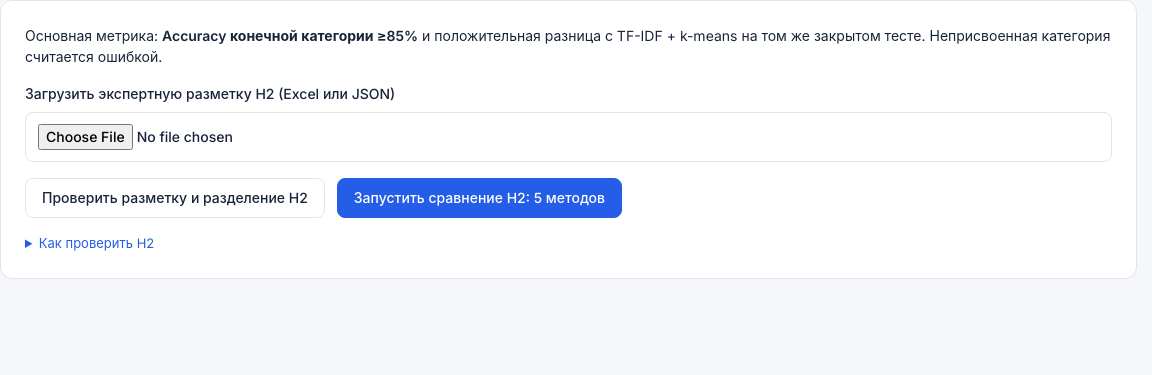
it: shows closed-test coverage and invalidates it when the seed changes
Click the button "Проверить разметку и разделение H2" at (175, 198), box [25,178,325,218]
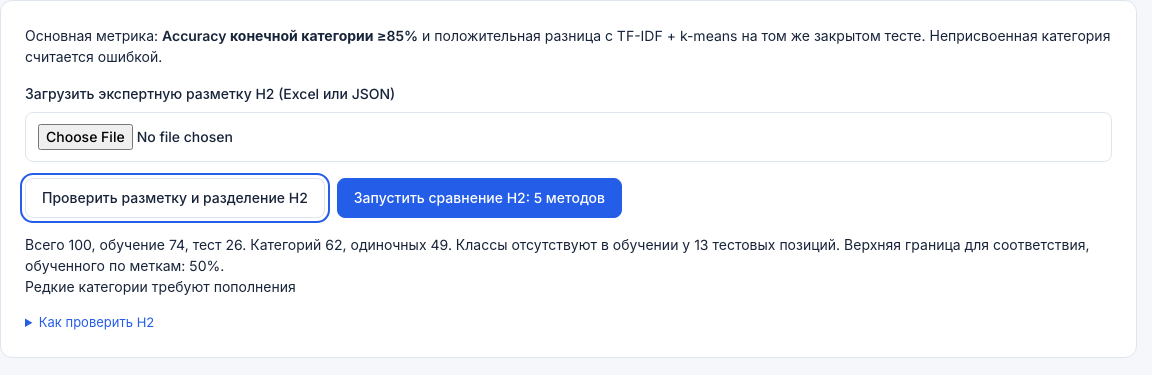
Expected: the text "Редкие категории требуют пополнения" is shown, [25,278,296,295]
